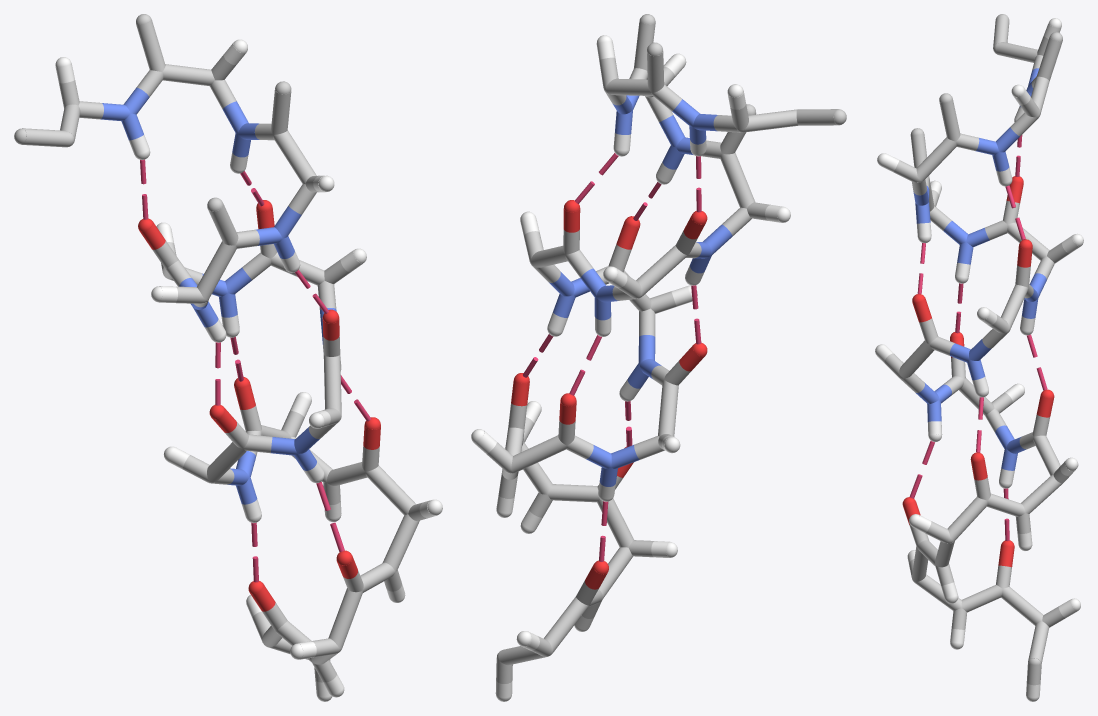
The model's file is Alpha.fbx.
3 renders of one model, left to right at view 1: azimuth 30°, elevation 25°; view 2: azimuth 150°, elevation 25°; view 3: azimuth 270°, elevation 25°, orthographic. The views are drawn at different scales.
Visible parts, largest first — view 1: subnode_137, subnode_93, subnode_98, subnode_116, subnode_143, subnode_97, subnode_149, subnode_150, subnode_156, subnode_109, subnode_144, subnode_138; view 2: subnode_137, subnode_103, subnode_130, subnode_89, subnode_109, subnode_155, subnode_101, subnode_93, subnode_92, subnode_149, subnode_144, subnode_156 (+1 smaller); view 3: subnode_98, subnode_143, subnode_89, subnode_102, subnode_96, subnode_116, subnode_150, subnode_155, subnode_123, subnode_103, subnode_144, subnode_88 (+12 smaller).
Boxes of the visible parts, bbox=[...] form: subnode_137: bbox=[197, 241, 236, 299]; subnode_93: bbox=[328, 588, 362, 648]; subnode_98: bbox=[365, 465, 415, 515]; subnode_116: bbox=[323, 355, 341, 414]; subnode_143: bbox=[273, 130, 316, 183]; subnode_97: bbox=[382, 514, 419, 571]; subnode_149: bbox=[162, 64, 214, 86]; subnode_150: bbox=[136, 20, 165, 71]; subnode_156: bbox=[22, 128, 70, 147]; subnode_109: bbox=[207, 442, 246, 482]; subnode_144: bbox=[271, 89, 291, 134]; subnode_138: bbox=[208, 203, 238, 245]; subnode_137: bbox=[720, 152, 755, 208]; subnode_103: bbox=[511, 435, 566, 472]; subnode_130: bbox=[636, 245, 687, 296]; subnode_89: bbox=[543, 596, 589, 653]; subnode_109: bbox=[658, 380, 678, 436]; subnode_155: bbox=[743, 109, 797, 132]; subnode_101: bbox=[547, 484, 599, 502]; subnode_93: bbox=[597, 498, 633, 547]; subnode_92: bbox=[599, 547, 632, 598]; subnode_149: bbox=[606, 78, 652, 95]; subnode_144: bbox=[633, 21, 655, 70]; subnode_156: bbox=[796, 109, 838, 125]; subnode_98: bbox=[947, 497, 987, 541]; subnode_143: bbox=[916, 137, 956, 181]; subnode_89: bbox=[1001, 586, 1043, 625]; subnode_102: bbox=[1021, 474, 1062, 513]; subnode_96: bbox=[961, 585, 1002, 612]; subnode_116: bbox=[899, 340, 934, 378]; subnode_150: bbox=[1036, 37, 1062, 80]; subnode_155: bbox=[996, 42, 1037, 62]; subnode_123: bbox=[1001, 284, 1028, 329]; subnode_103: bbox=[1033, 435, 1060, 475]; subnode_144: bbox=[939, 98, 960, 141]; subnode_88: bbox=[1028, 621, 1049, 662].
Size of the model in its own units: 1043 by 1907 by 601.
